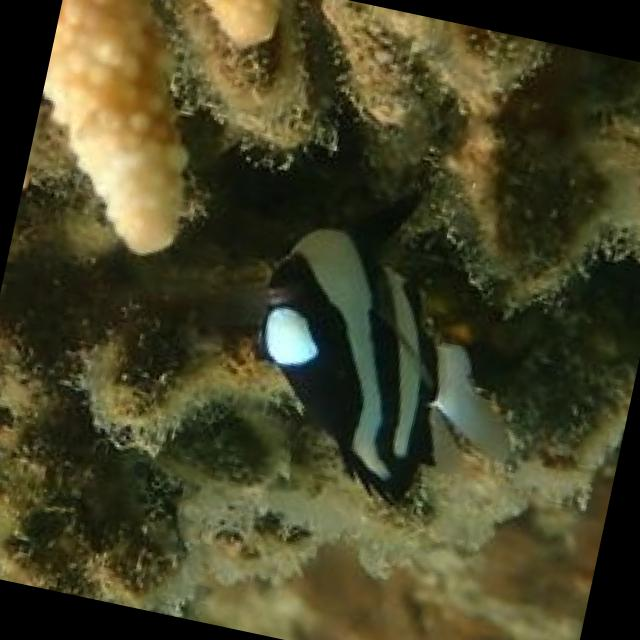ThreeStripedDamselfish: (252, 224, 513, 507)
